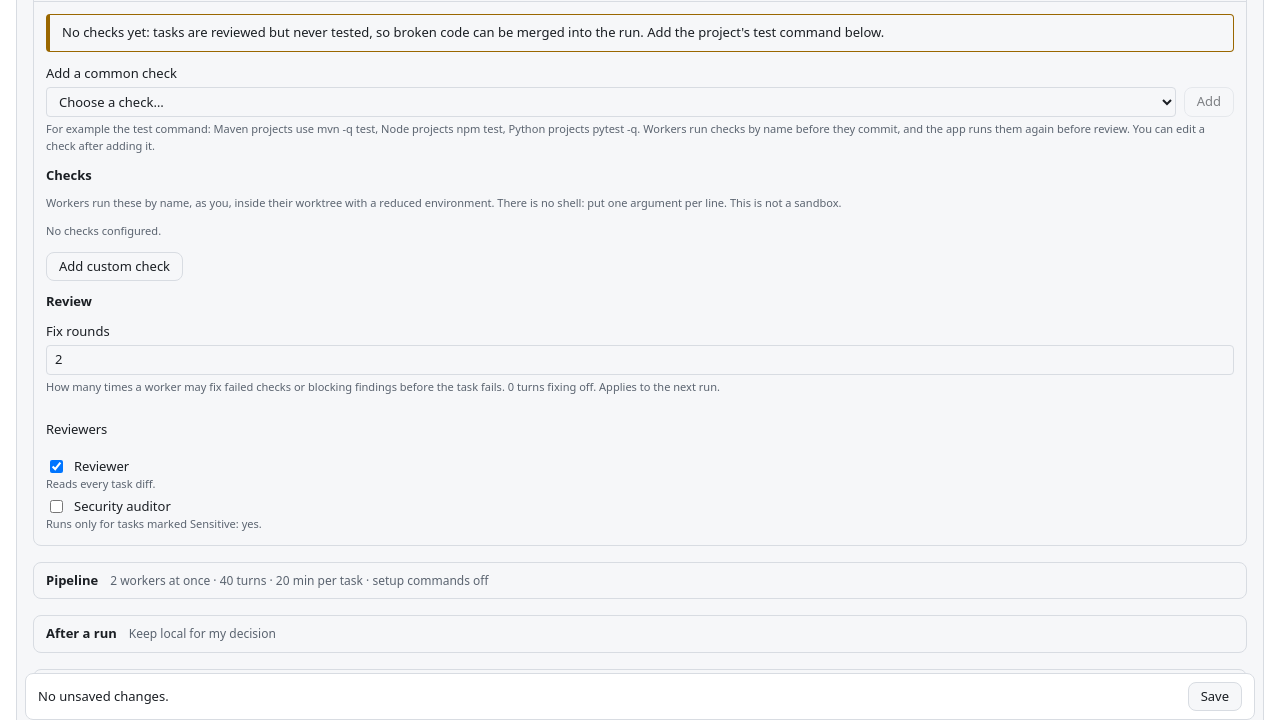
Test: review settings › allows no reviewer and 0 rounds
(page scrolled)
Replace the text in the field labelled "Fix rounds" with "0" at {"x": 640, "y": 360}, box [46,345,1234,375]
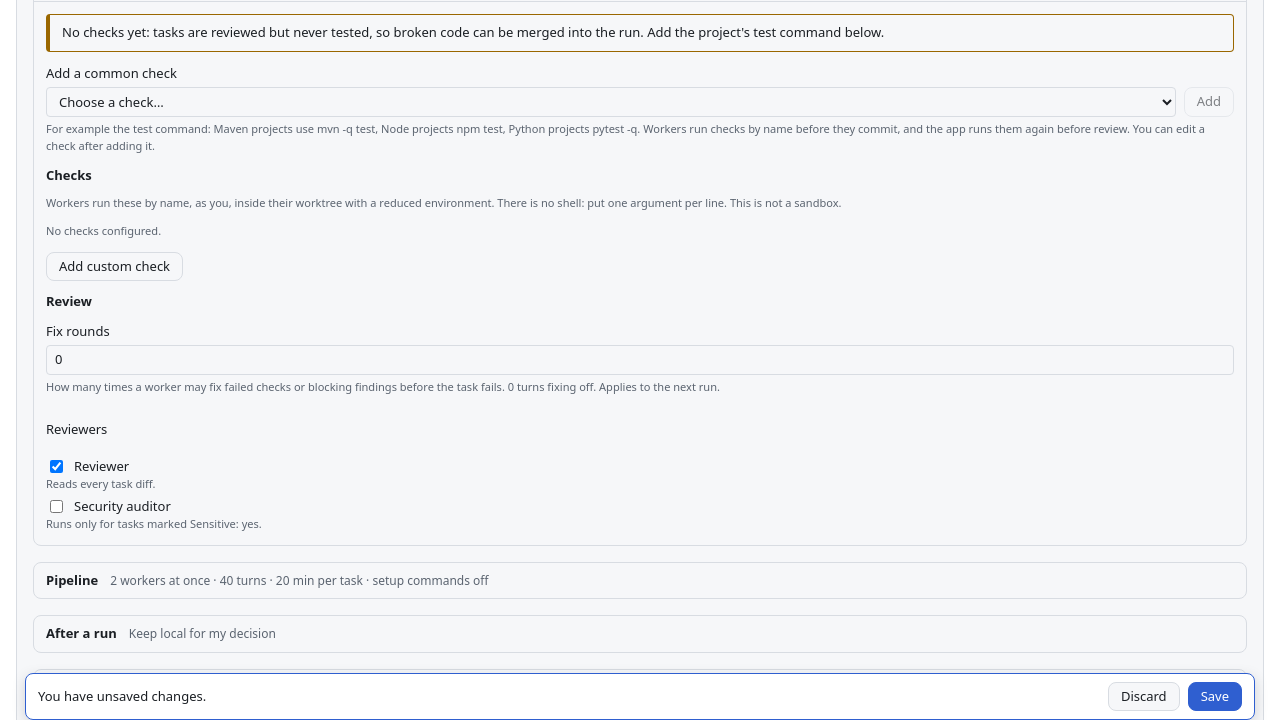
Click the checkbox labelled "Reviewer" at {"x": 56, "y": 466}, box [50,460,63,473]
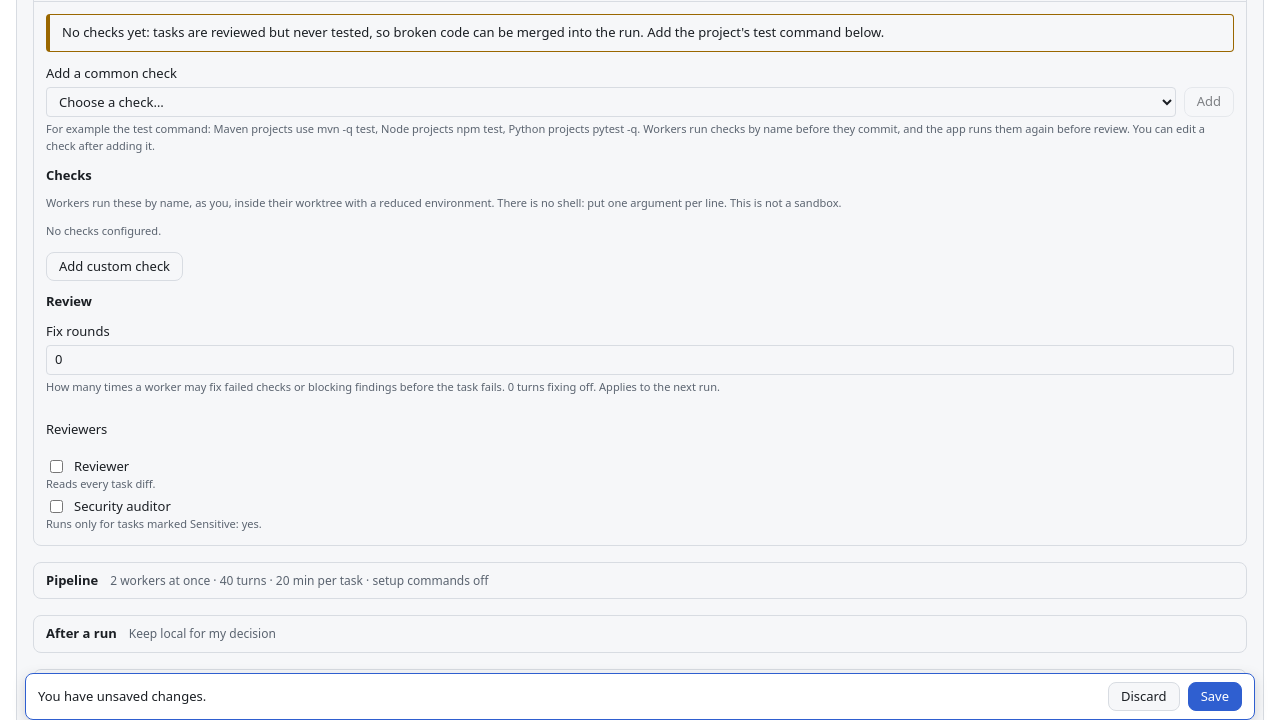
Click the button "Save" at {"x": 1215, "y": 696}, box [1188,682,1242,711]
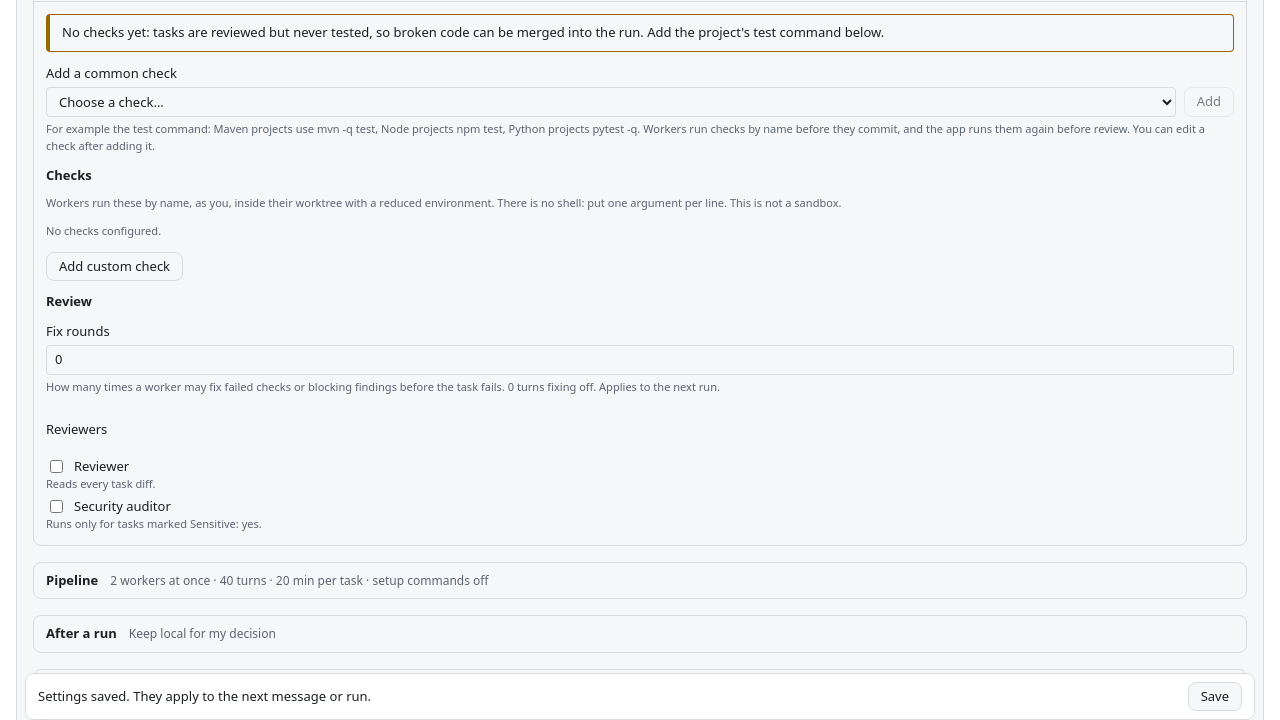
Check: the text "Settings saved. They apply to the next message or run." is shown, box [38,686,371,704]
